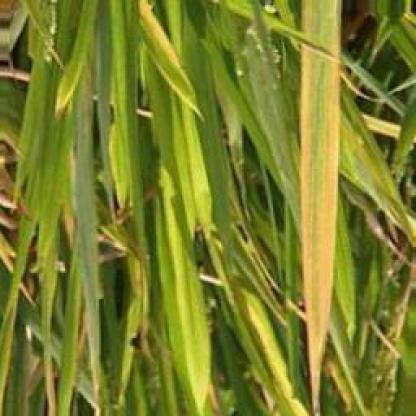Tungro: (149, 130, 230, 416), (300, 5, 342, 416), (125, 3, 208, 122), (230, 313, 307, 416)
